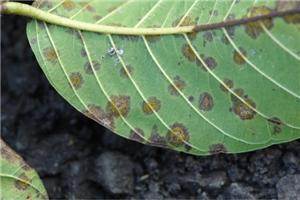black-spot: (97, 38, 254, 133)
